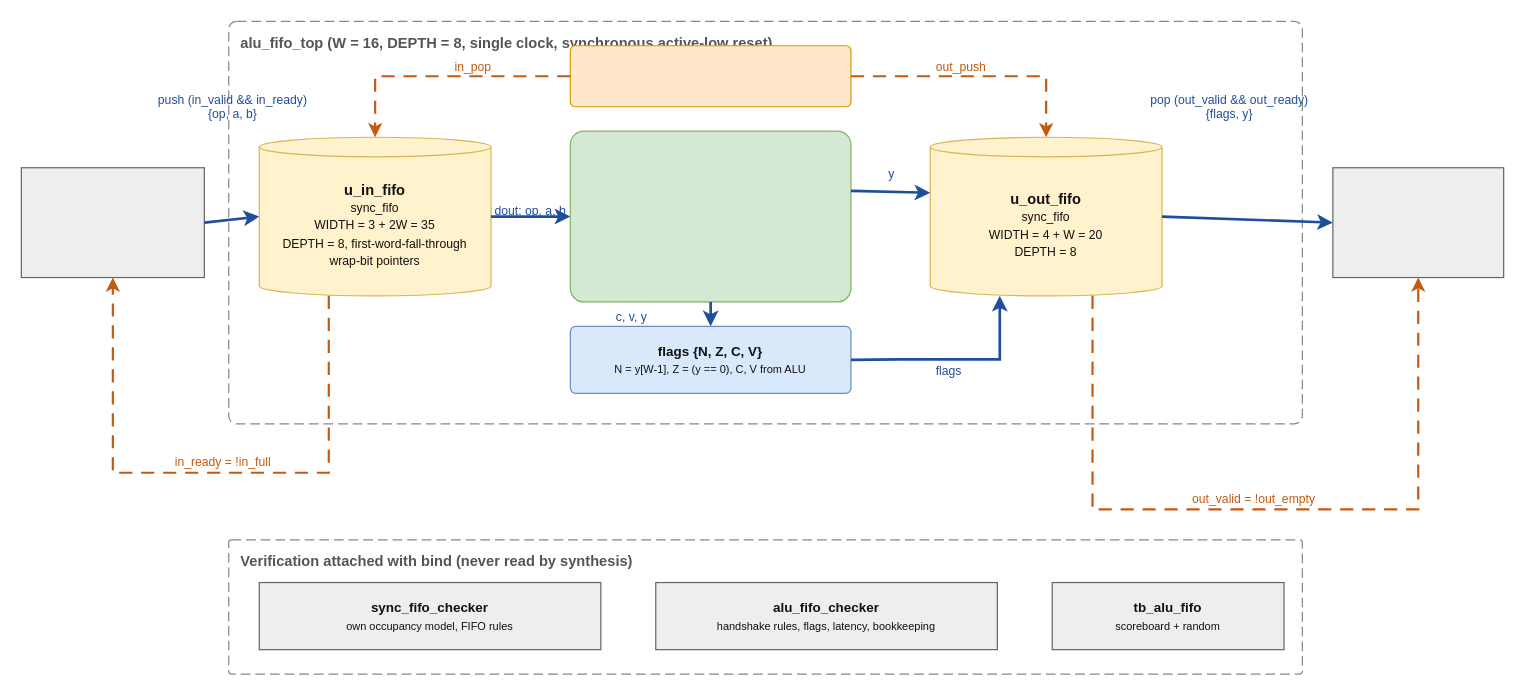
The diagram is 1525 pixels wide and 695 high, and some of its shapes have lost their labels. The centre of each missing label's shape, as x and y in pixels:
Consumer out_valid, out_ready out_y, out_flags: point (1418, 222)
Producer in_valid, in_ready in_op[2:0], in_a, in_b: point (112, 222)
u_alu (combinational) ADD SUB AND OR XOR SLL SRL SLTU y, c, v from op / a / b: point (710, 216)
xfer = !in_empty && !out_full one transfer per cycle: point (710, 76)
